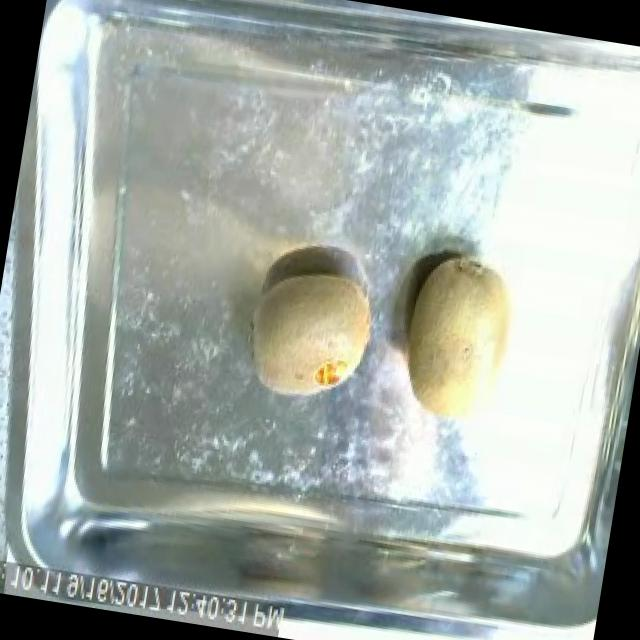Fruit: (383, 238, 538, 441), (233, 252, 390, 416)
